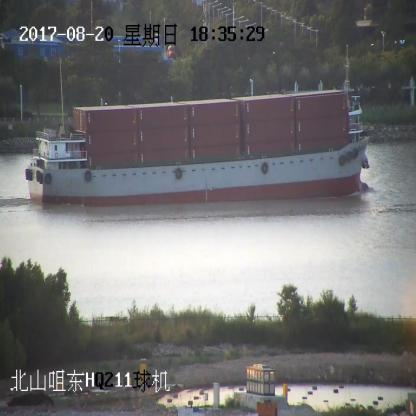Container Ship: (25, 52, 370, 205)
